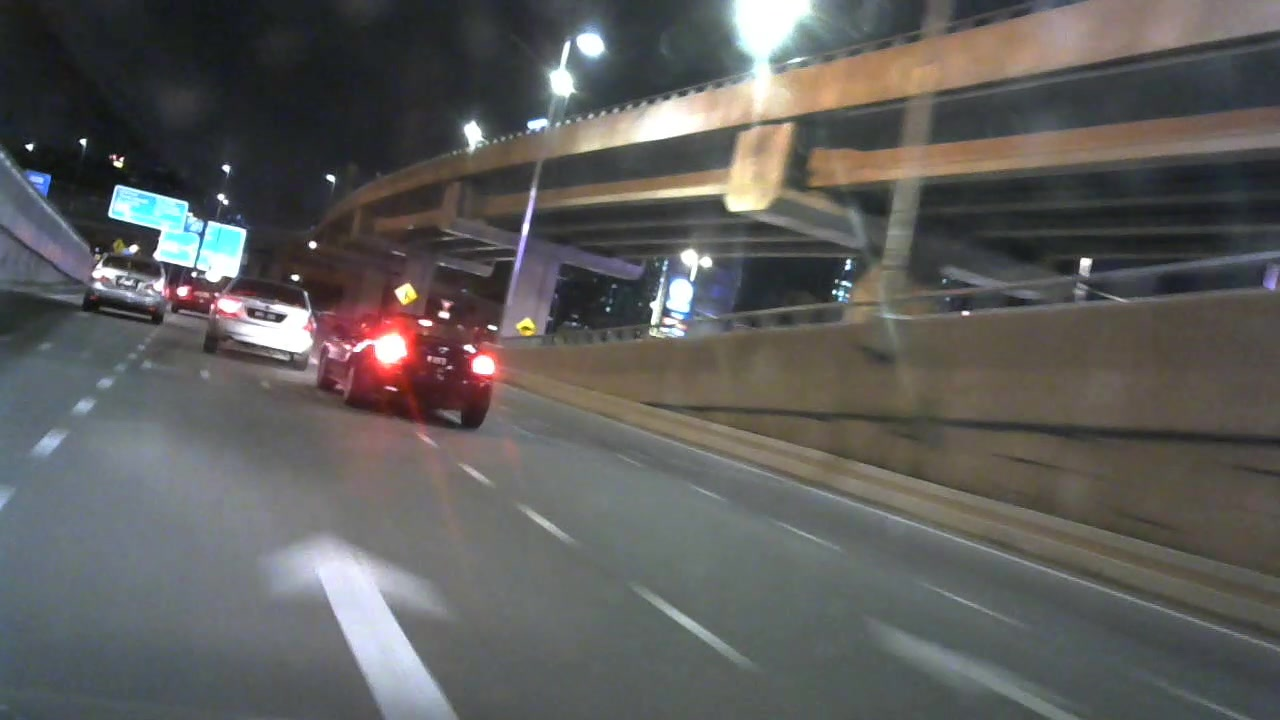Car: (319, 304, 499, 434), (205, 271, 318, 373), (79, 246, 168, 327), (178, 266, 213, 317)
